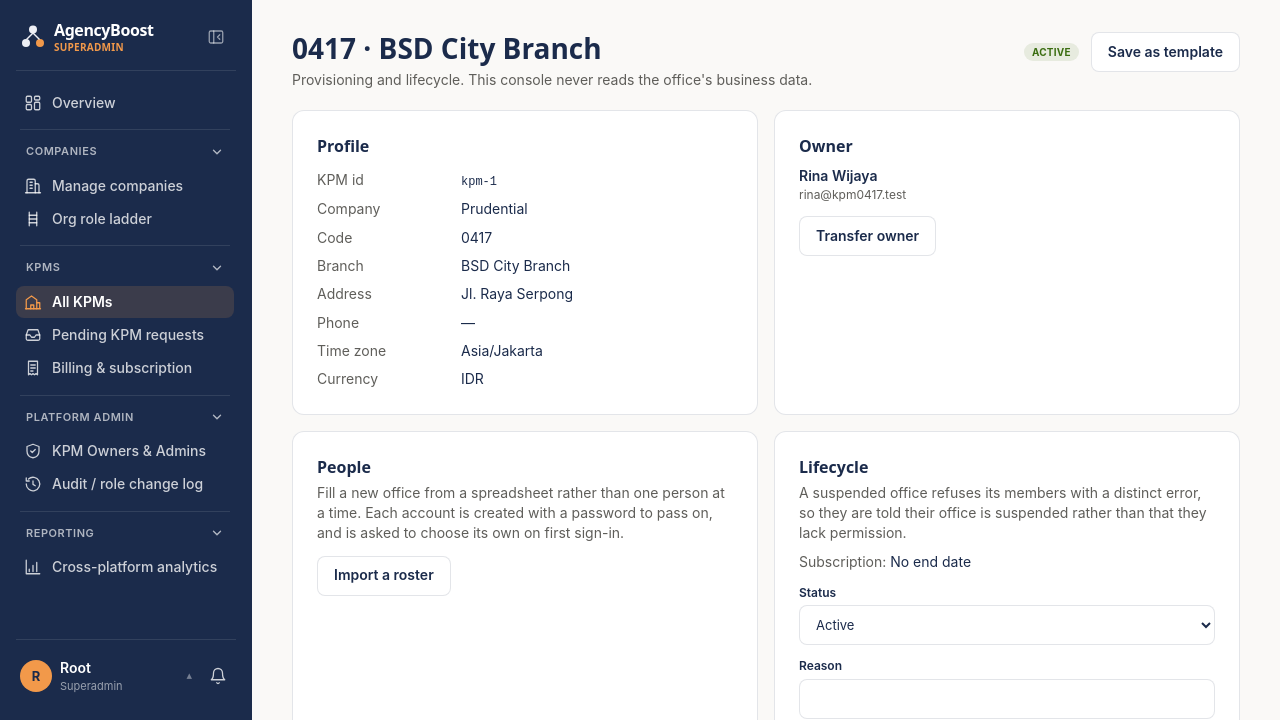
tenant detail › Save as template (P13.2-T7) › saves into another company, and says in its words that the ladder lacks a role
Click the button "Save as template" at x=1165, y=52, box top-left (1091, 32), bottom-right (1240, 72)
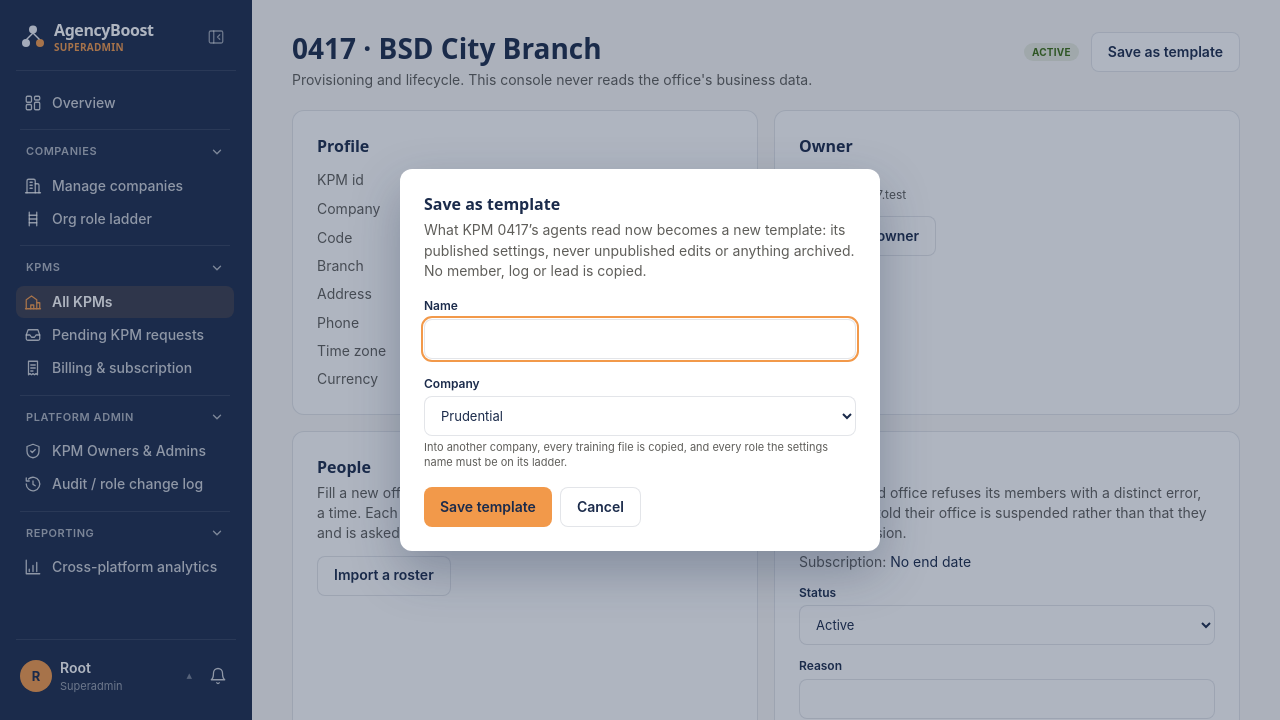
Select "Allianz Life" in the dropdown labelled "Company" at x=640, y=416, box top-left (424, 396), bottom-right (856, 436)
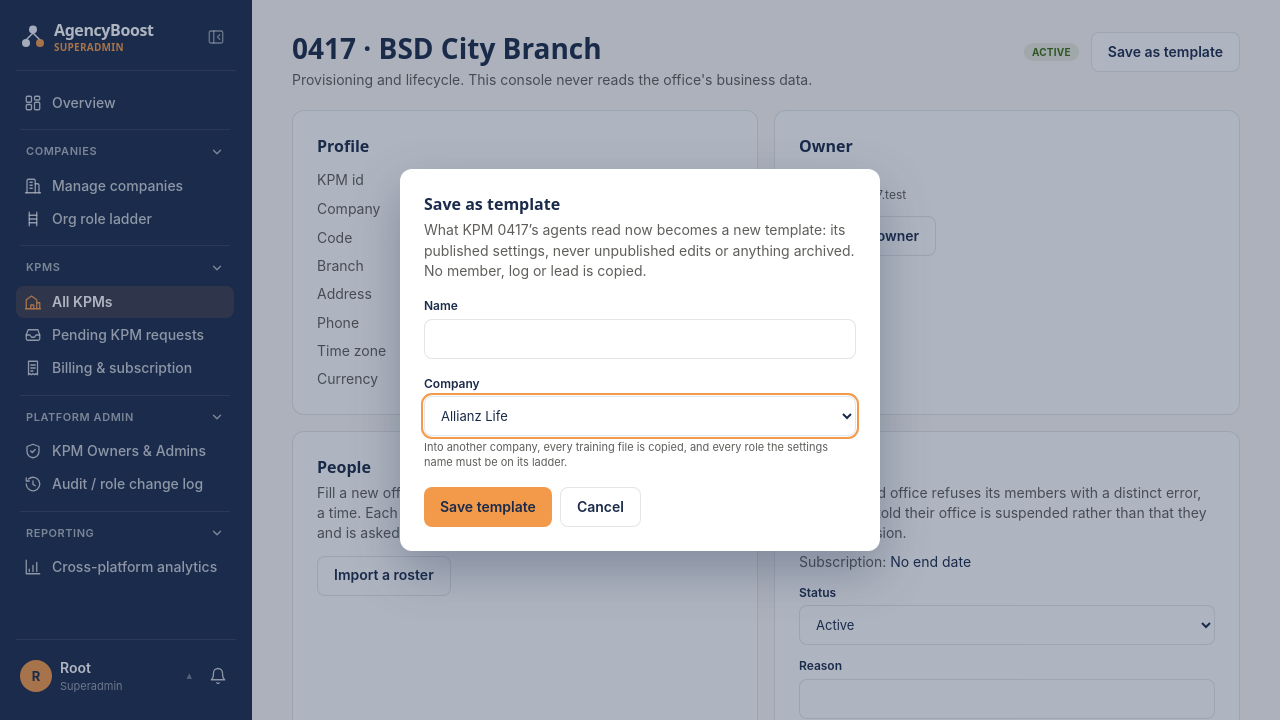
Type "For Allianz" into the field labelled "Name" at x=640, y=339, box top-left (424, 319), bottom-right (856, 359)
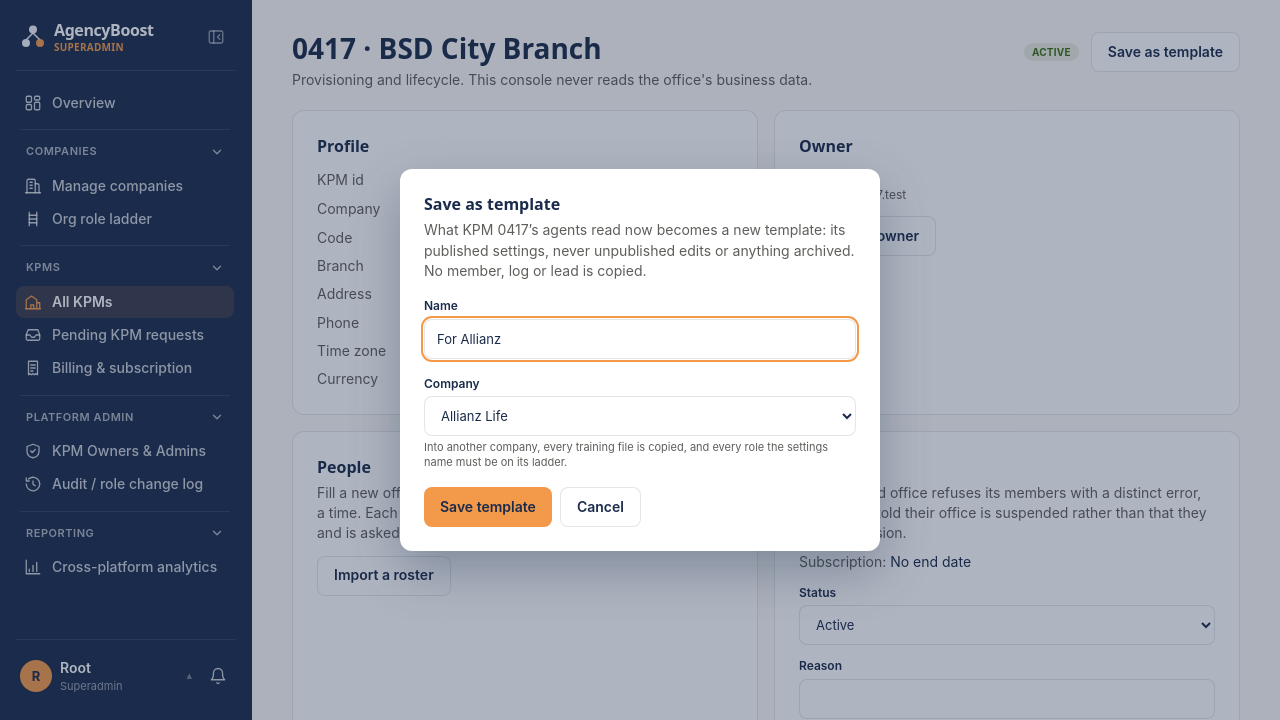
Click the button "Save template" at x=488, y=507, box top-left (424, 487), bottom-right (552, 527)
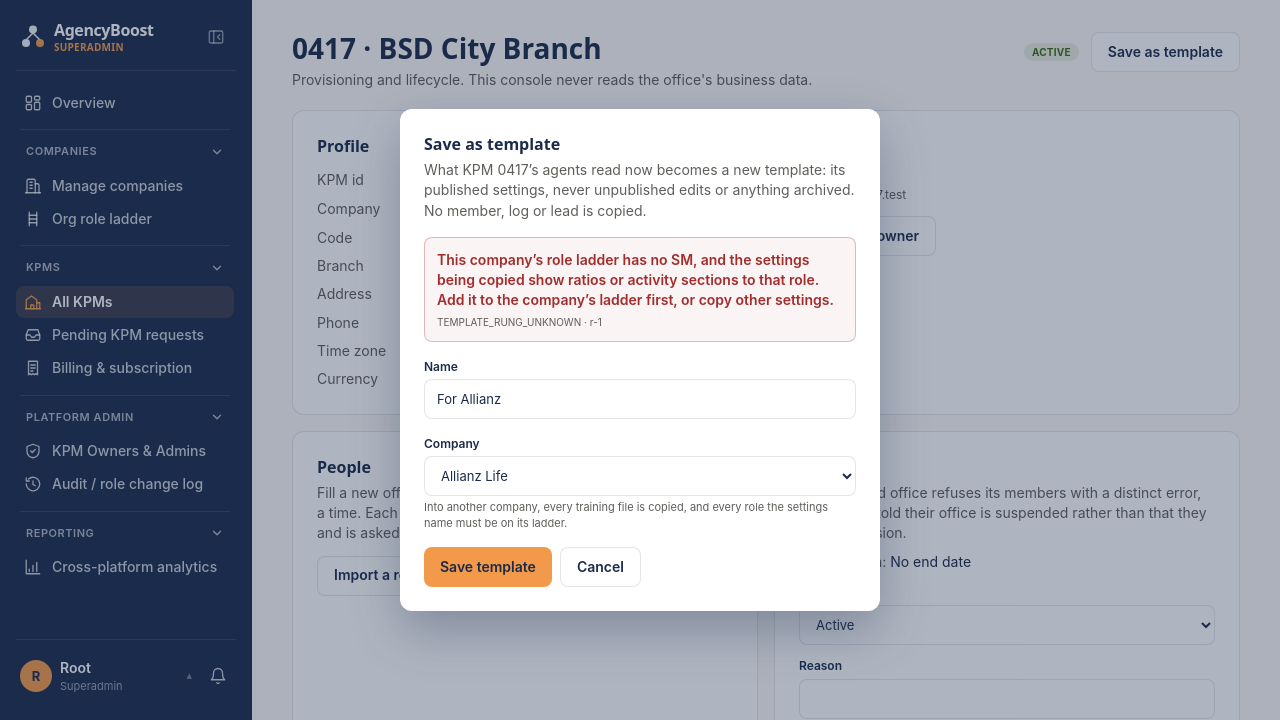
Expected: the dialog "Save as template" is shown, top-left (400, 109), bottom-right (880, 611)
Expected: the text "role ladder has no SM" is shown, top-left (437, 251), bottom-right (834, 308)
